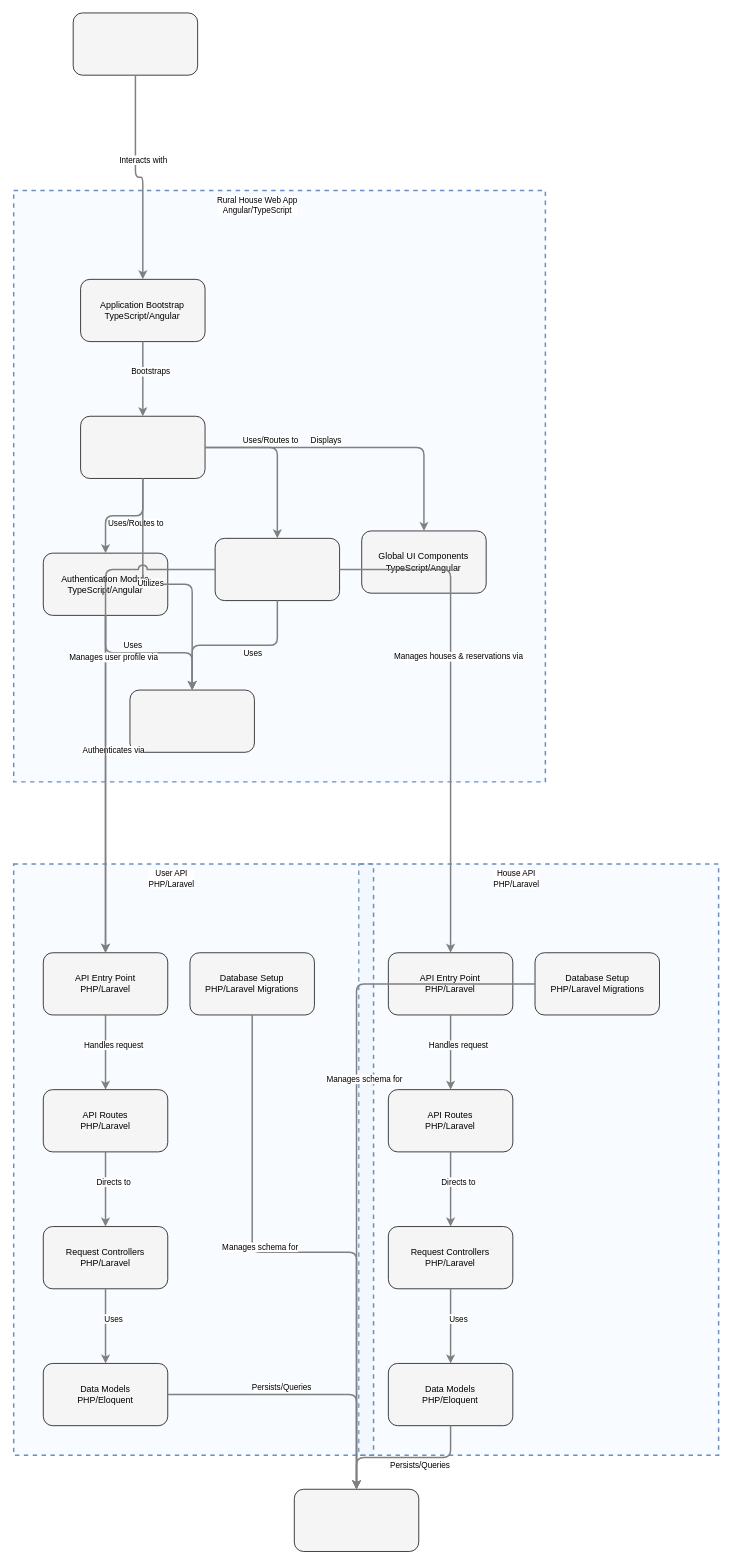
Some shapes in this 732 by 1565 pixel diagram are drawn without their labels. Each missing label, with the box of its shape:
App Core & Routing TypeScript/Angular: (80, 416, 205, 478)
Feature Pages TypeScript/Angular: (214, 538, 340, 601)
Relational Database MySQL, PostgreSQL, etc.: (294, 1489, 419, 1551)
Shared Utilities & Models TypeScript/Angular: (129, 689, 254, 752)
User External Actor: (72, 12, 198, 75)
